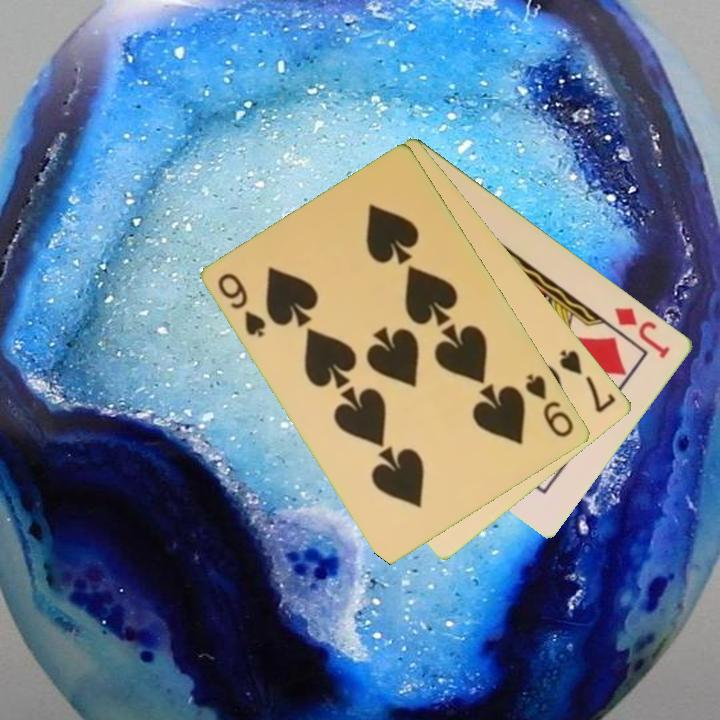7s: (556, 346, 620, 416)
9s: (522, 370, 578, 441), (214, 269, 270, 340)
Jd: (611, 303, 674, 361)
